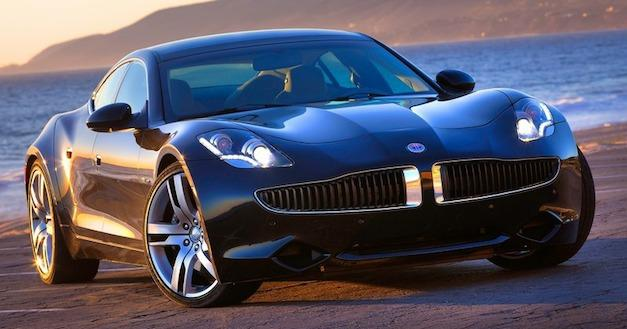Car: (11, 25, 617, 320)
